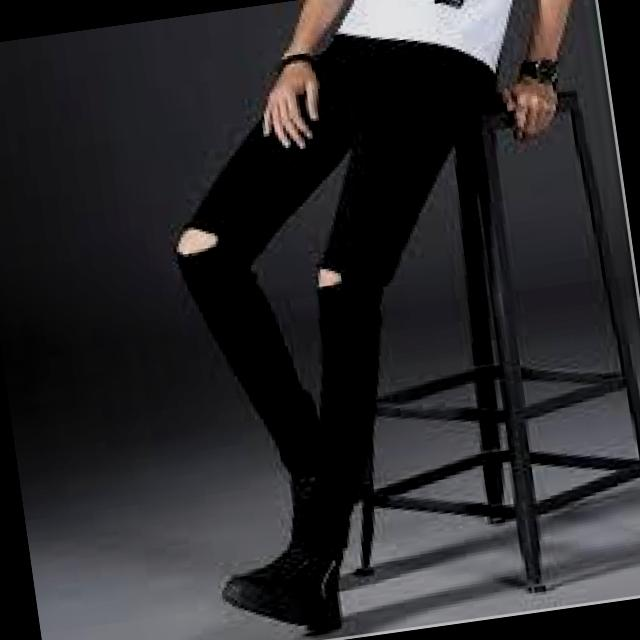pants: (148, 19, 544, 562)
